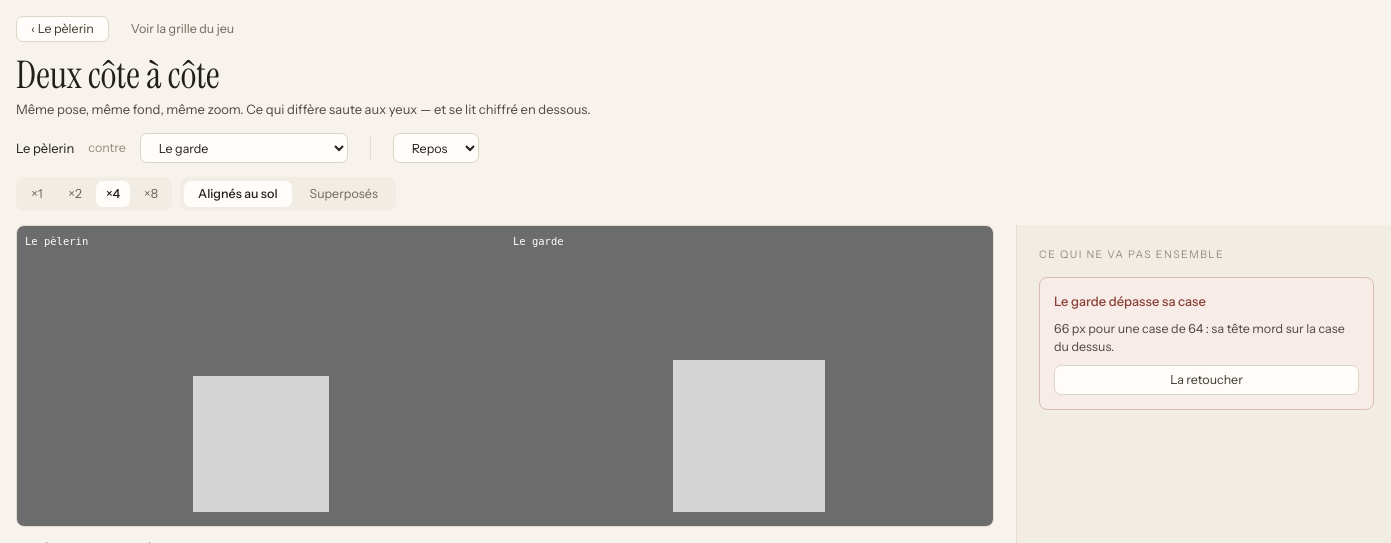
Test: choisir deux fois le même sujet › bascule en comparaison de deux de ses images
(page scrolled)
Step 1. Select "Le pèlerin — ses images" in the dropdown named "Comparer avec" → point(244, 148), box 140,133 -> 348,163
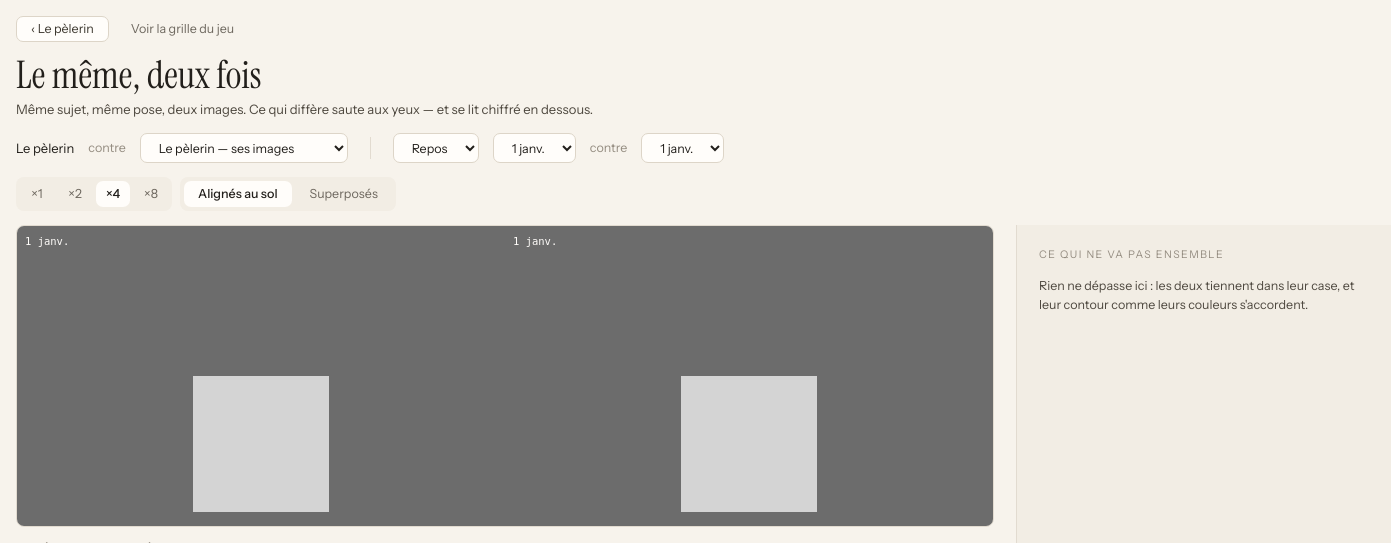
Now the heading "Le même, deux fois" is shown, box 16,50 -> 262,100
Now the dropdown named "La première image" is shown, box 493,133 -> 576,163
Now the dropdown named "La seconde image" is shown, box 641,133 -> 724,163
